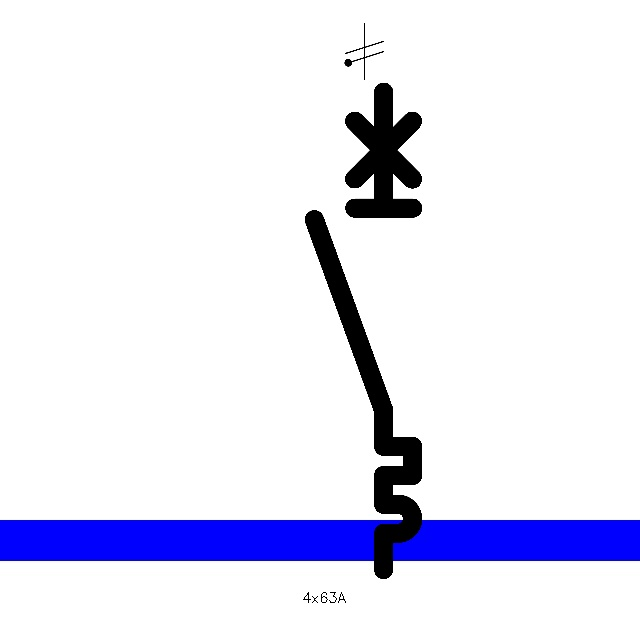interruptor_termomagnetico: (302, 79, 425, 582)
